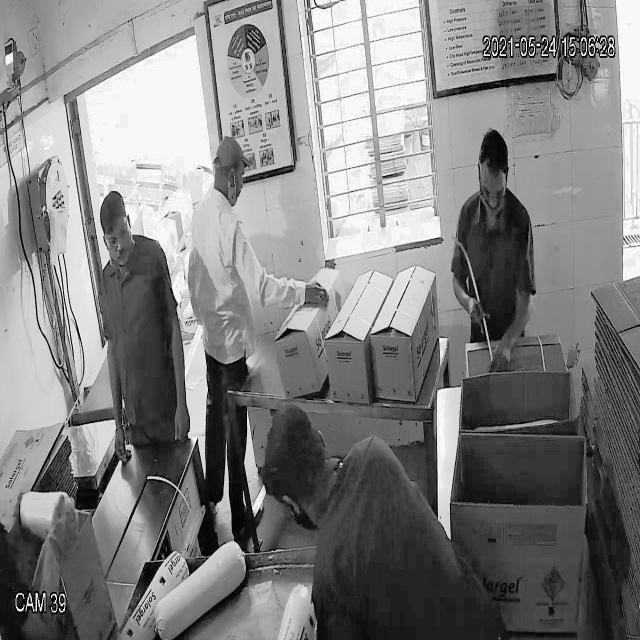Gafas: (100, 218, 133, 250)
